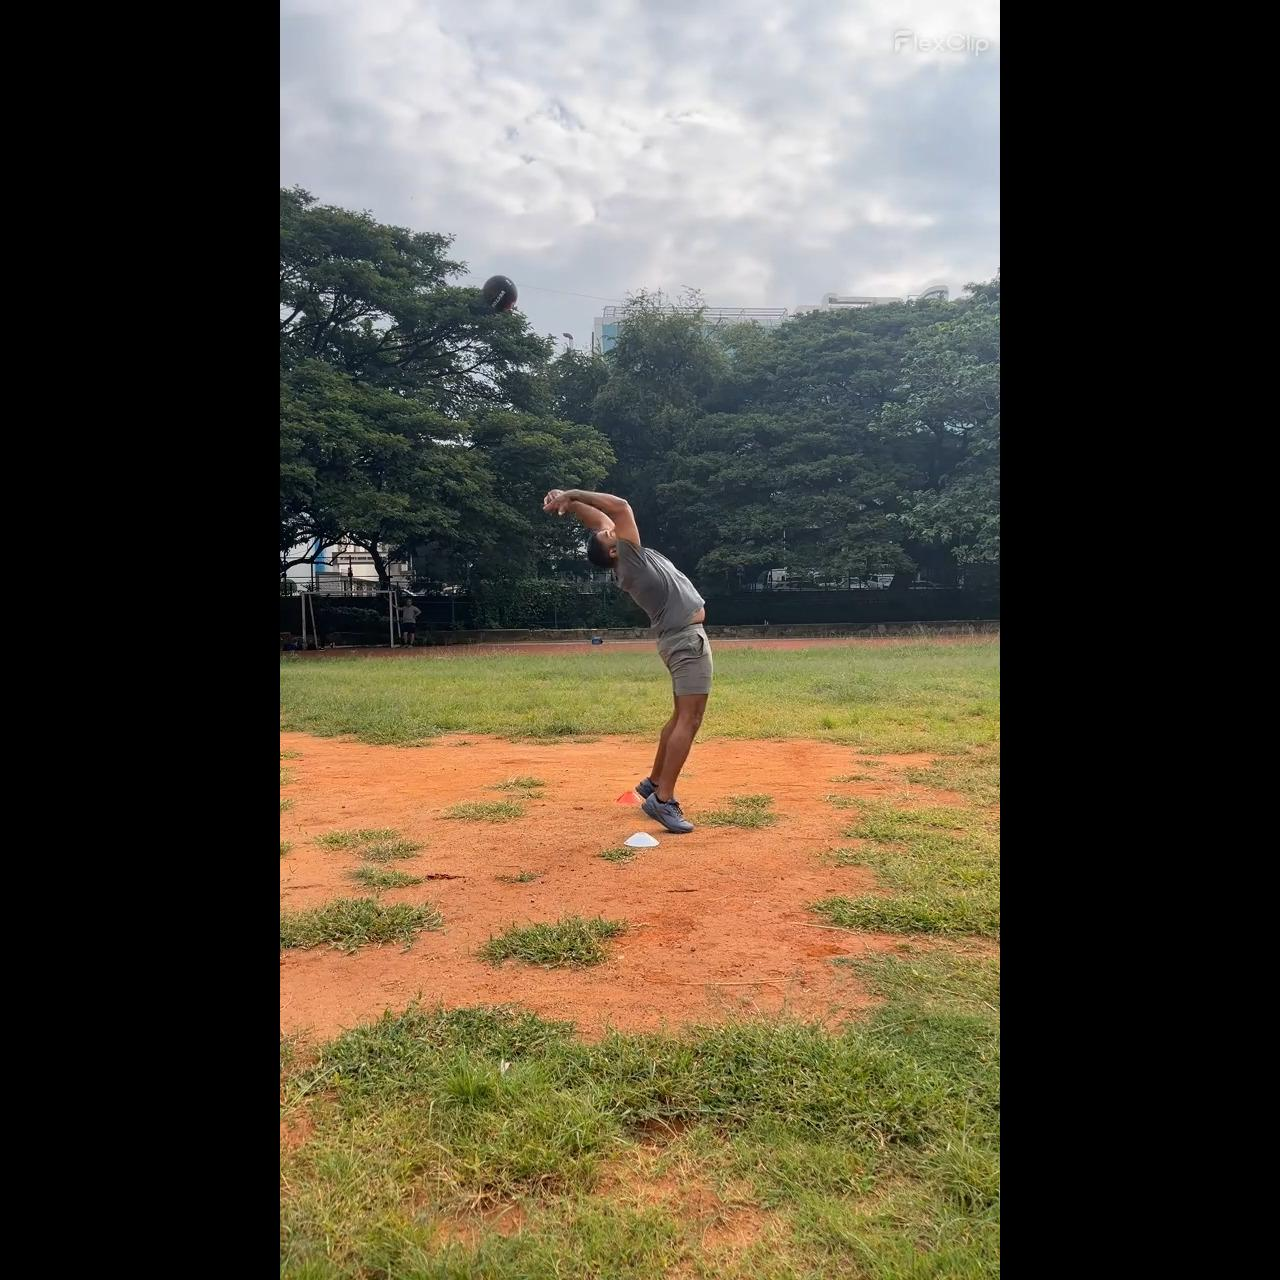Athelete: (542, 482, 714, 835)
Medicine Ball: (481, 274, 517, 313)
